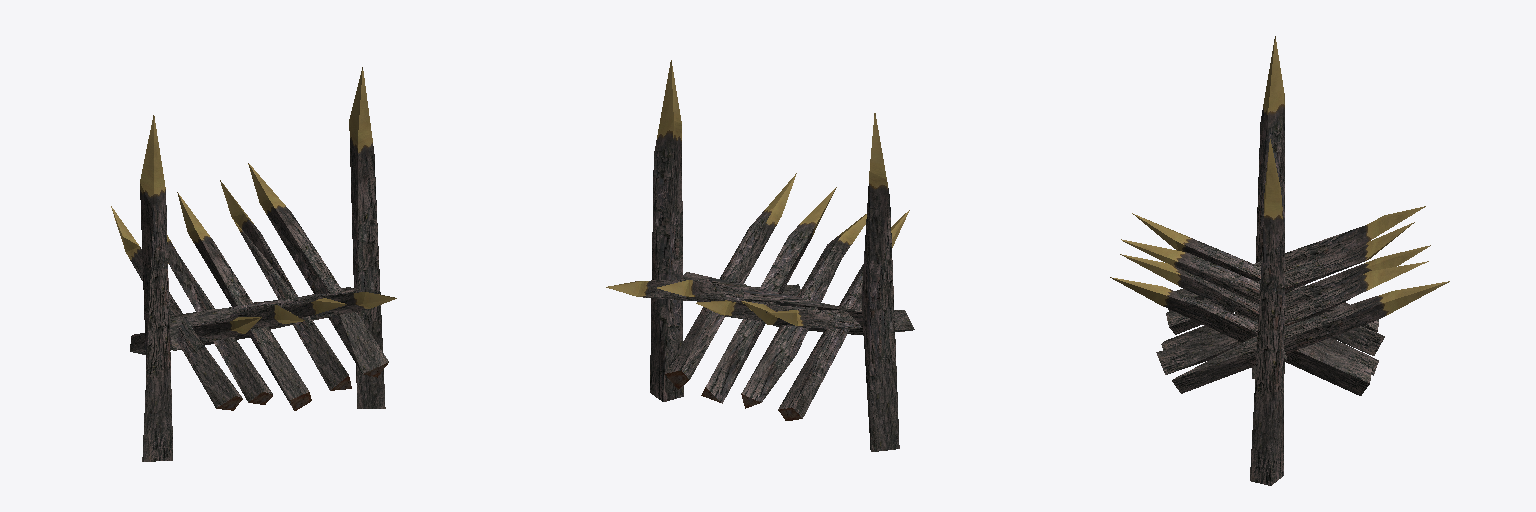
The picture shows the model from 3 angles: view 1: azimuth 30°, elevation 25°; view 2: azimuth 150°, elevation 25°; view 3: azimuth 270°, elevation 25°; orthographic projection.
Visible parts, largest first — view 1: Circle.002_Circle.007, Circle.001, Circle.004_Circle.009, Circle.006_Circle.014, Circle.005_Circle.013, Circle.008_Circle.016, Circle.007_Circle.015, Circle.010_Circle.018, Circle.003_Circle.008, Circle.013_Circle.021, Circle.011_Circle.019, Circle.012_Circle.020; view 2: Circle.002_Circle.007, Circle.001, Circle.013_Circle.021, Circle.011_Circle.019, Circle.012_Circle.020, Circle.010_Circle.018, Circle.008_Circle.016, Circle.003_Circle.008, Circle.005_Circle.013, Circle.004_Circle.009, Circle.006_Circle.014, Circle.007_Circle.015; view 3: Circle.001, Circle.004_Circle.009, Circle.013_Circle.021, Circle.005_Circle.013, Circle.002_Circle.007, Circle.011_Circle.019, Circle.012_Circle.020, Circle.007_Circle.015, Circle.008_Circle.016, Circle.006_Circle.014, Circle.010_Circle.018.
Part boxes in pixels (bbox=[...]): Circle.002_Circle.007: bbox=[140, 115, 172, 461]; Circle.001: bbox=[349, 67, 385, 408]; Circle.004_Circle.009: bbox=[248, 163, 388, 377]; Circle.006_Circle.014: bbox=[177, 192, 311, 410]; Circle.005_Circle.013: bbox=[220, 180, 351, 390]; Circle.008_Circle.016: bbox=[111, 206, 242, 410]; Circle.007_Circle.015: bbox=[167, 235, 272, 404]; Circle.010_Circle.018: bbox=[130, 317, 261, 354]; Circle.003_Circle.008: bbox=[170, 287, 359, 350]; Circle.013_Circle.021: bbox=[253, 291, 396, 329]; Circle.011_Circle.019: bbox=[230, 305, 304, 329]; Circle.012_Circle.020: bbox=[278, 296, 347, 317]; Circle.002_Circle.007: bbox=[862, 113, 899, 451]; Circle.001: bbox=[650, 60, 683, 401]; Circle.013_Circle.021: bbox=[665, 173, 796, 389]; Circle.011_Circle.019: bbox=[741, 214, 866, 408]; Circle.012_Circle.020: bbox=[701, 187, 836, 403]; Circle.010_Circle.018: bbox=[778, 210, 909, 420]; Circle.008_Circle.016: bbox=[766, 310, 914, 331]; Circle.003_Circle.008: bbox=[680, 272, 863, 335]; Circle.005_Circle.013: bbox=[657, 280, 800, 301]; Circle.004_Circle.009: bbox=[606, 280, 745, 300]; Circle.006_Circle.014: bbox=[696, 300, 834, 321]; Circle.007_Circle.015: bbox=[741, 301, 861, 325]; Circle.001: bbox=[1250, 139, 1284, 485]; Circle.004_Circle.009: bbox=[1172, 281, 1449, 393]; Circle.013_Circle.021: bbox=[1110, 277, 1371, 395]; Circle.005_Circle.013: bbox=[1156, 261, 1428, 374]; Circle.002_Circle.007: bbox=[1252, 36, 1284, 378]; Circle.011_Circle.019: bbox=[1121, 239, 1384, 355]; Circle.012_Circle.020: bbox=[1120, 254, 1378, 375]; Circle.007_Circle.015: bbox=[1166, 222, 1414, 334]; Circle.008_Circle.016: bbox=[1168, 206, 1425, 310]; Circle.006_Circle.014: bbox=[1161, 245, 1430, 349]; Circle.010_Circle.018: bbox=[1132, 213, 1378, 332].
Size of the model in its own units: 6.76 by 8.98 by 8.18.
Materials: 1 (1 with a texture image).